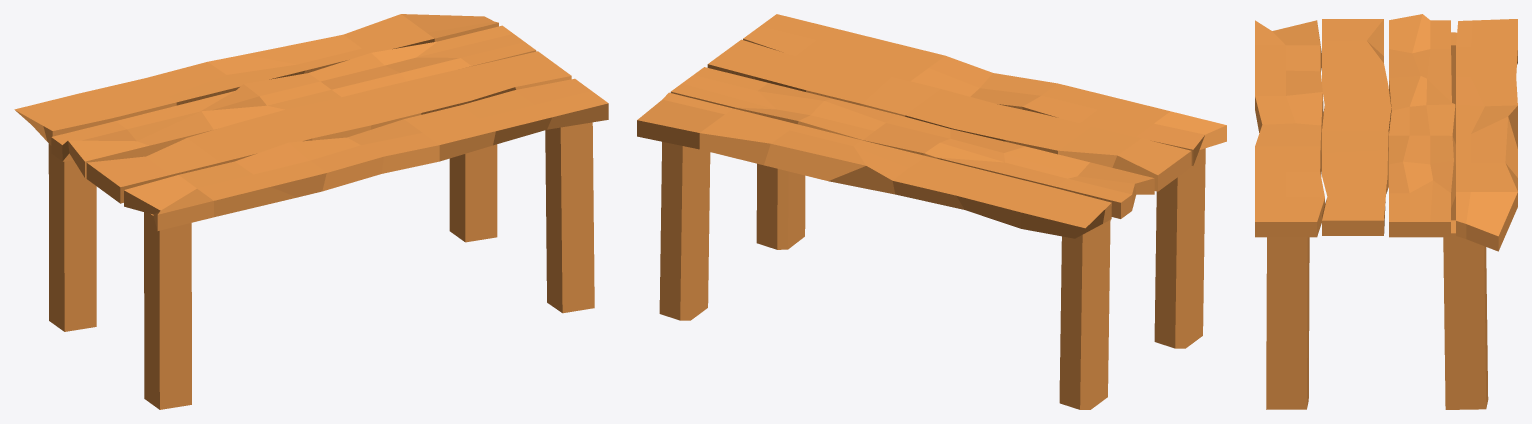
Rendered from Crafting Table.fbx.
3 views of the same model, side by side, from view 1: azimuth 30°, elevation 25°; view 2: azimuth 150°, elevation 25°; view 3: azimuth 270°, elevation 25° (orthographic). The views are drawn at different scales.
Parts seen in each view (by area): view 1: Cube; view 2: Cube; view 3: Cube.
Part boxes in pixels (bbox=[...]): Cube: bbox=[14, 14, 608, 409]; Cube: bbox=[637, 14, 1226, 409]; Cube: bbox=[1255, 14, 1517, 409].
Size of the model in its own units: 585 by 261 by 314.
